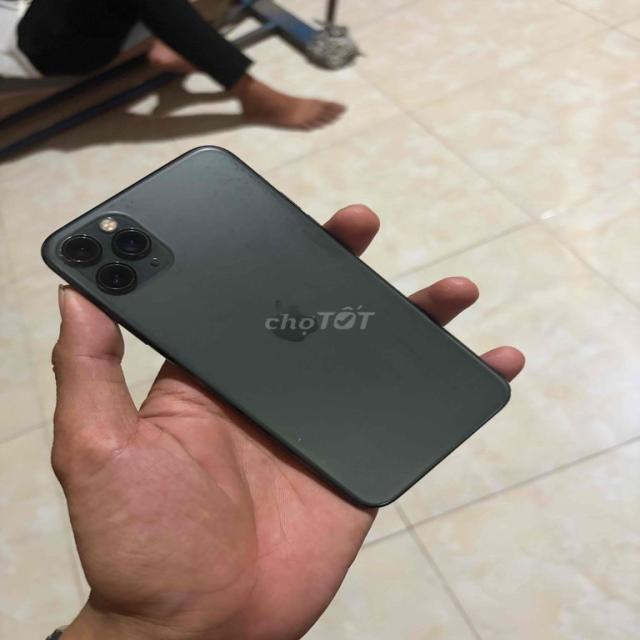gen_11: (42, 146, 509, 506)
